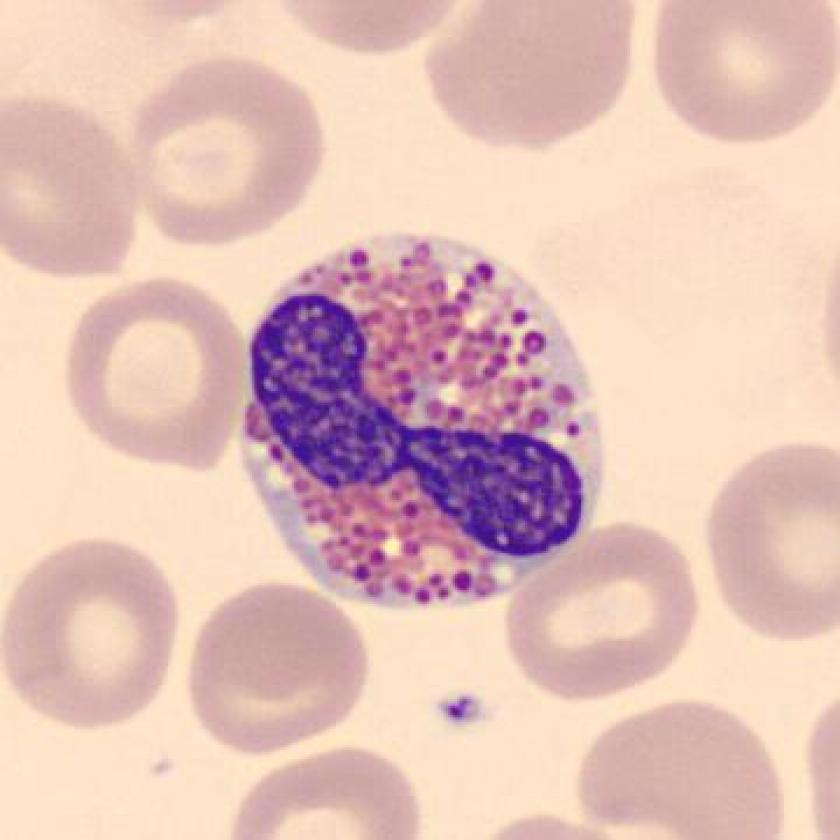eosinophil: (230, 218, 624, 626)
